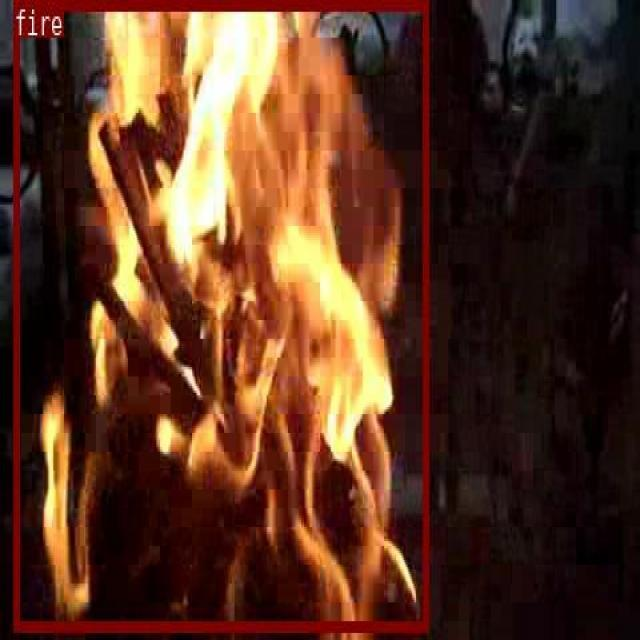fire: (13, 0, 427, 631)
